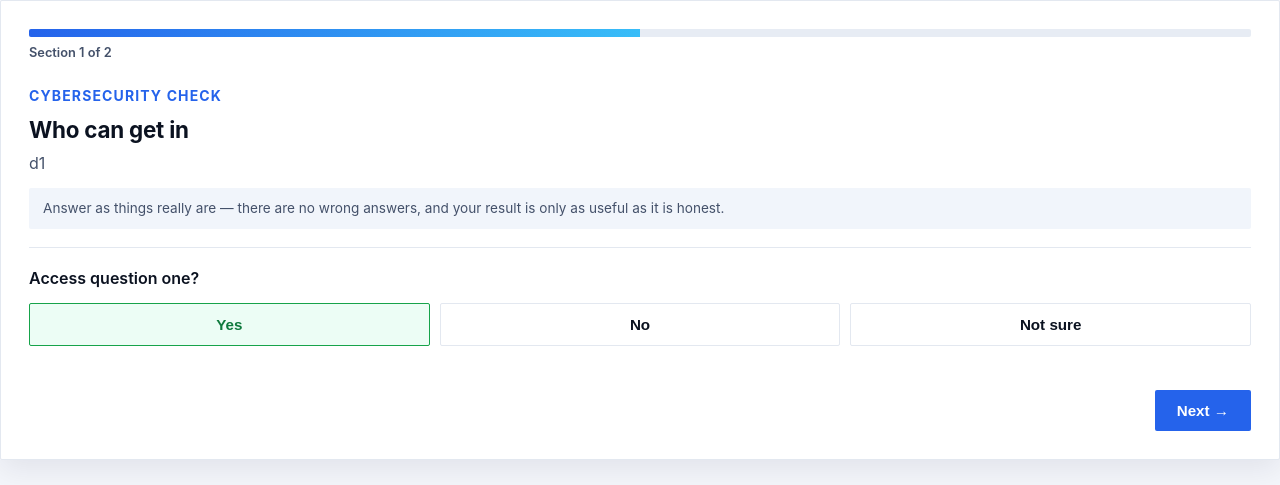
it: Wizard › scrolls to the top of the page when advancing to the next section
The width and height of the screenshot is (1280, 485).
Click the button "Next →": (1203, 410) 1155,390 -> 1251,431
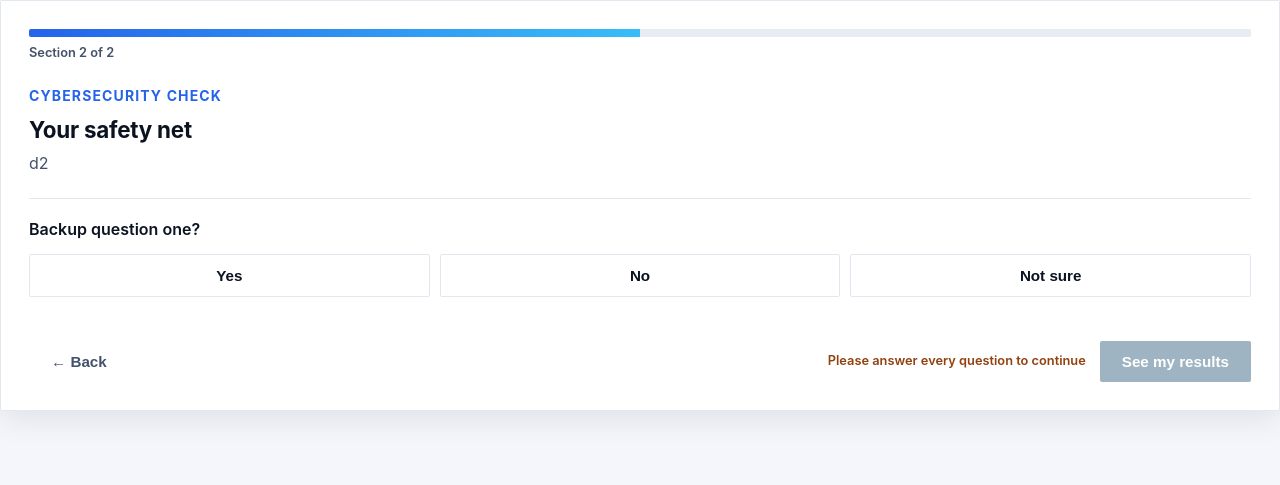
Expected: the heading "Your safety net" is shown, 29,116 -> 192,142
